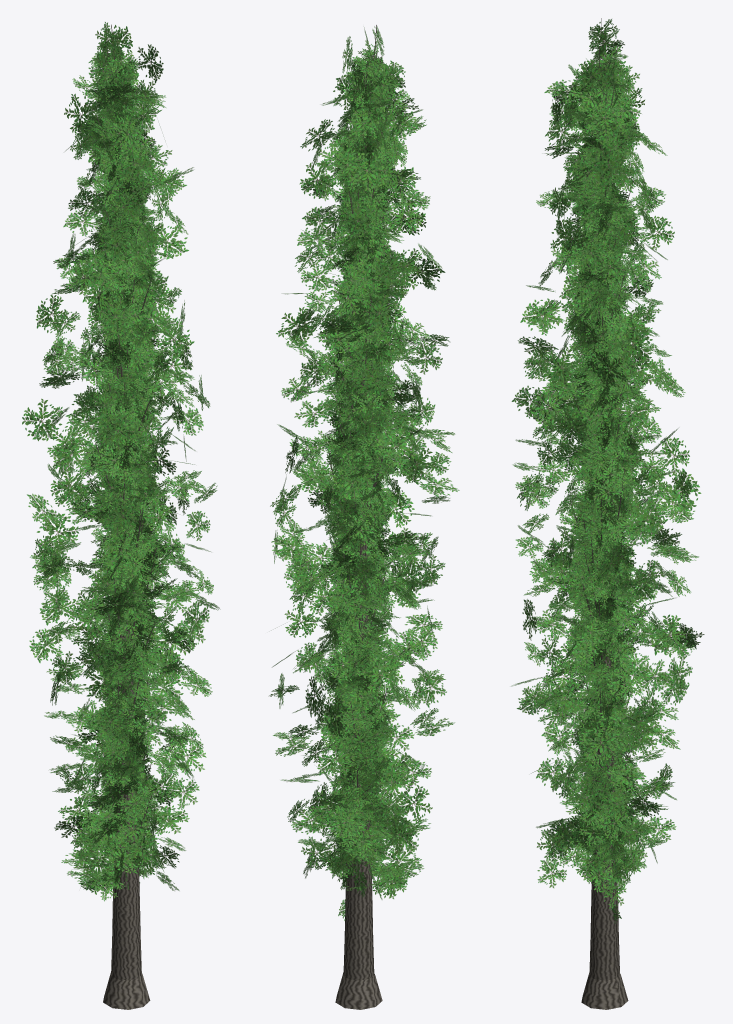
Rendered from terak_1.glb.
3 renders of one model, left to right at view 1: azimuth 30°, elevation 25°; view 2: azimuth 150°, elevation 25°; view 3: azimuth 270°, elevation 25°, orthographic.
Parts seen in each view (by area): view 1: terak_leaves, terak_bark; view 2: terak_leaves, terak_bark; view 3: terak_leaves, terak_bark.
Boxes of the visible parts, <box> form: terak_leaves: <box>22,22,220,901</box>; terak_bark: <box>95,24,158,1009</box>; terak_leaves: <box>269,26,459,920</box>; terak_bark: <box>329,25,389,1009</box>; terak_leaves: <box>511,19,704,923</box>; terak_bark: <box>567,18,641,1009</box>.
Bounding box in the file's own units: 4.22 × 22.55 × 4.57.
Materials: 2 (2 with a texture image).
